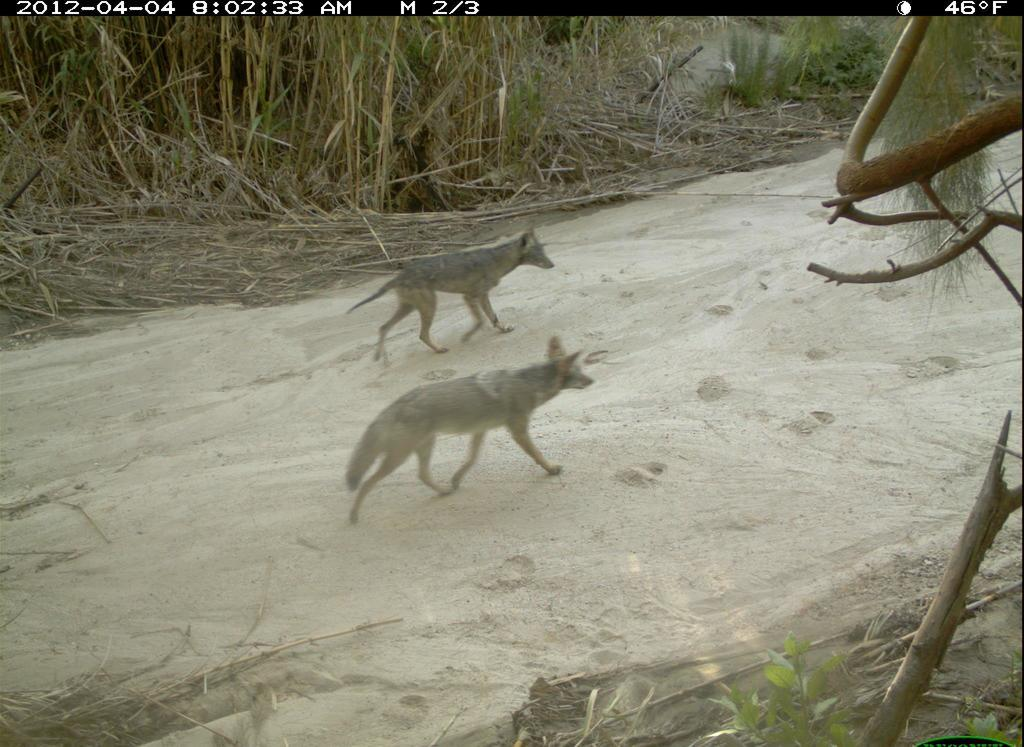coyote: (342, 335, 598, 530), (347, 225, 561, 359)
